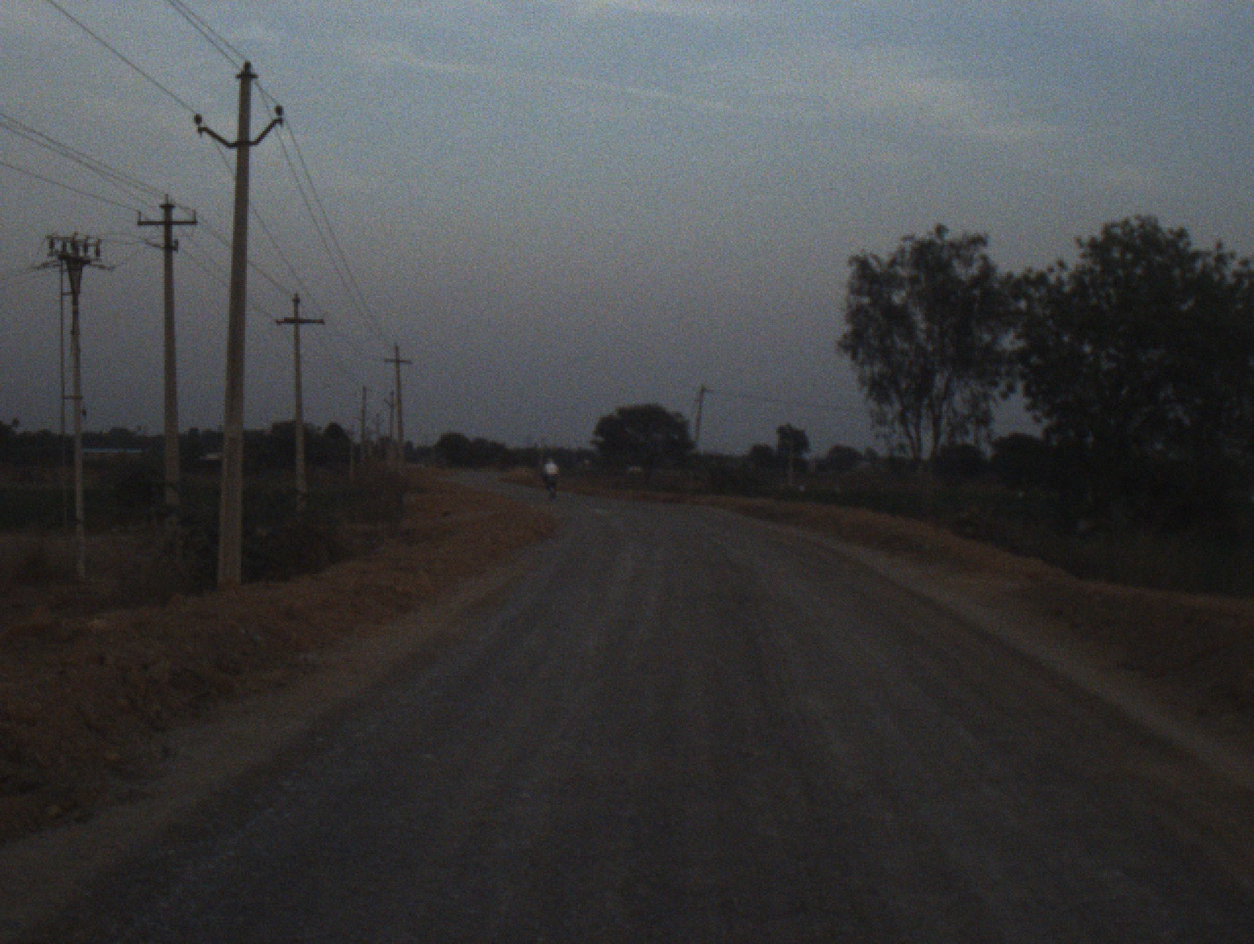bicycle: (540, 467, 556, 497)
rider: (542, 456, 559, 488)
